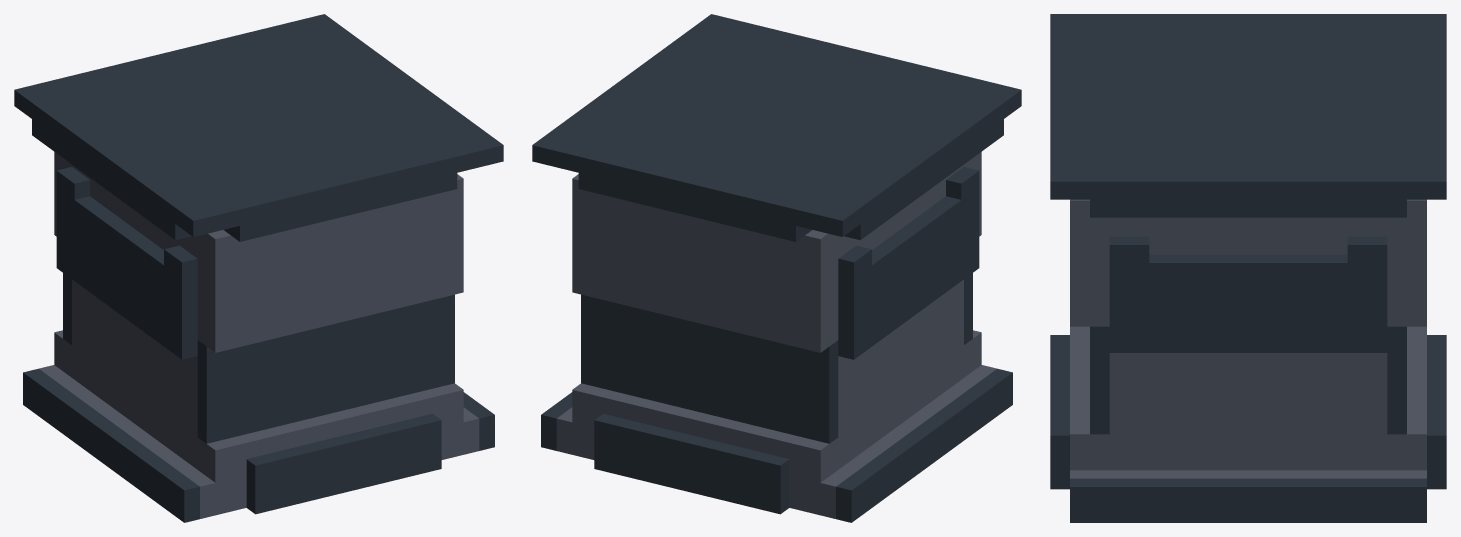
File: wall.obj
The picture shows the model from 3 angles, left to right: view 1: azimuth 30°, elevation 25°; view 2: azimuth 150°, elevation 25°; view 3: azimuth 270°, elevation 25°; orthographic projection. The views are drawn at different scales.
Size of the model in its own units: 20 by 19 by 20.
Materials: 1 (1 with a texture image).
